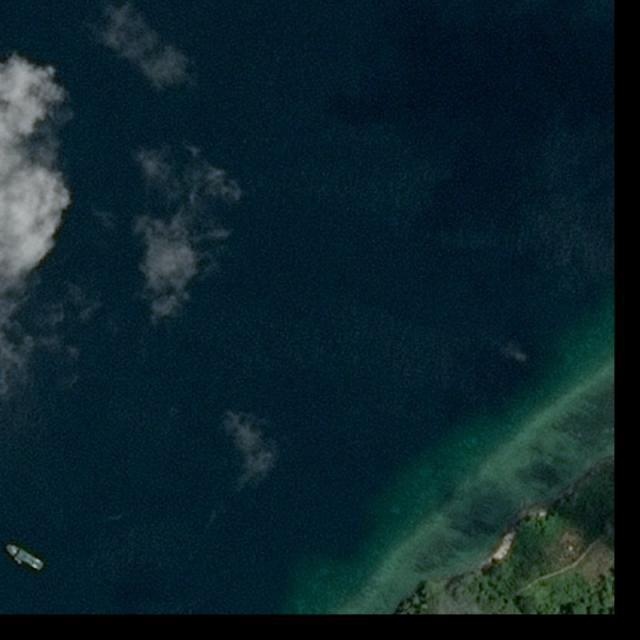ship: (4, 542, 45, 574), (14, 559, 22, 566)
